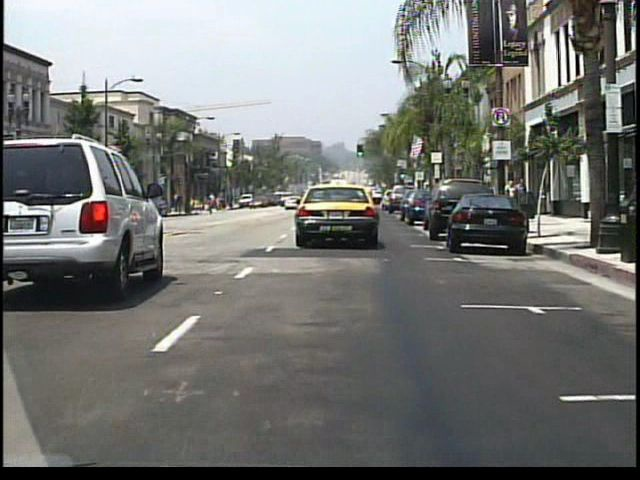person: (513, 174, 530, 221), (503, 179, 516, 215), (224, 195, 231, 211)
